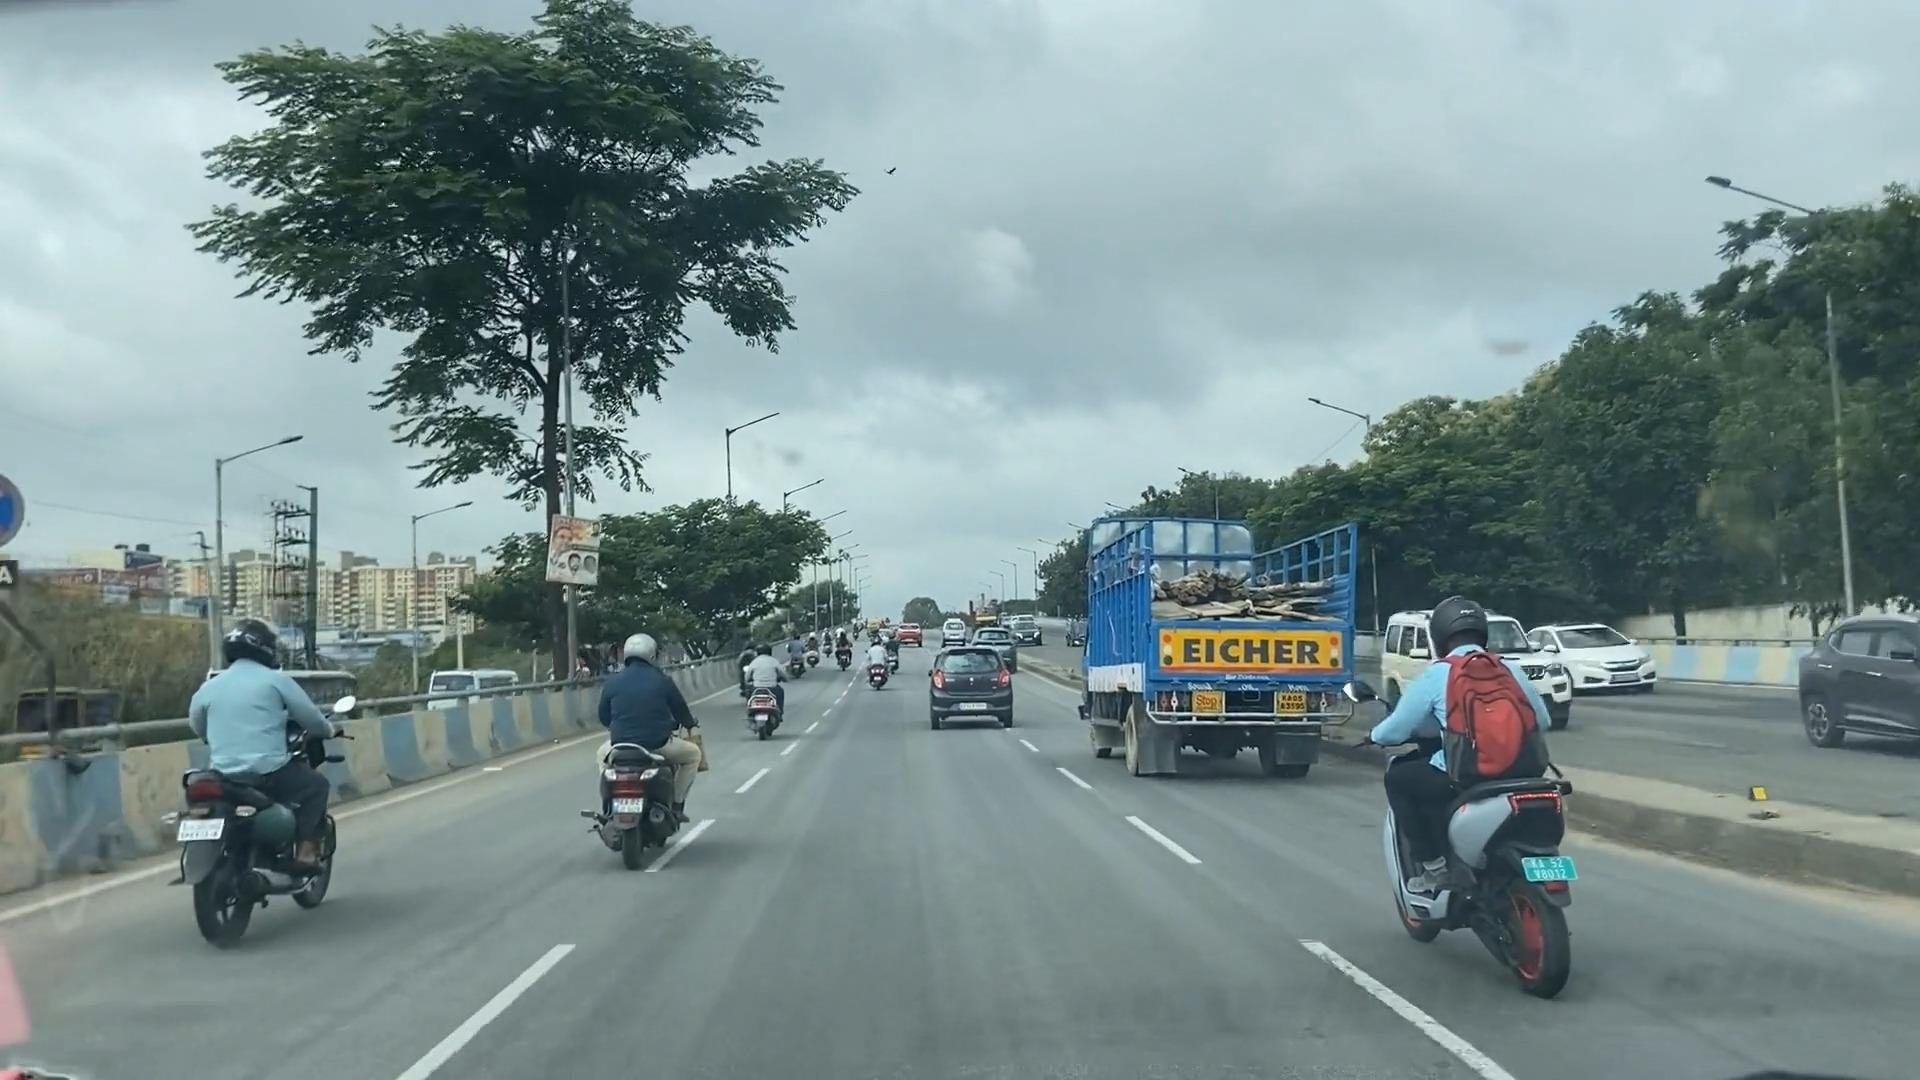HMV: (1097, 517, 1344, 769)
LMV: (1396, 604, 1552, 971), (189, 630, 320, 942), (600, 620, 702, 866), (930, 644, 1011, 729), (740, 637, 791, 737)
